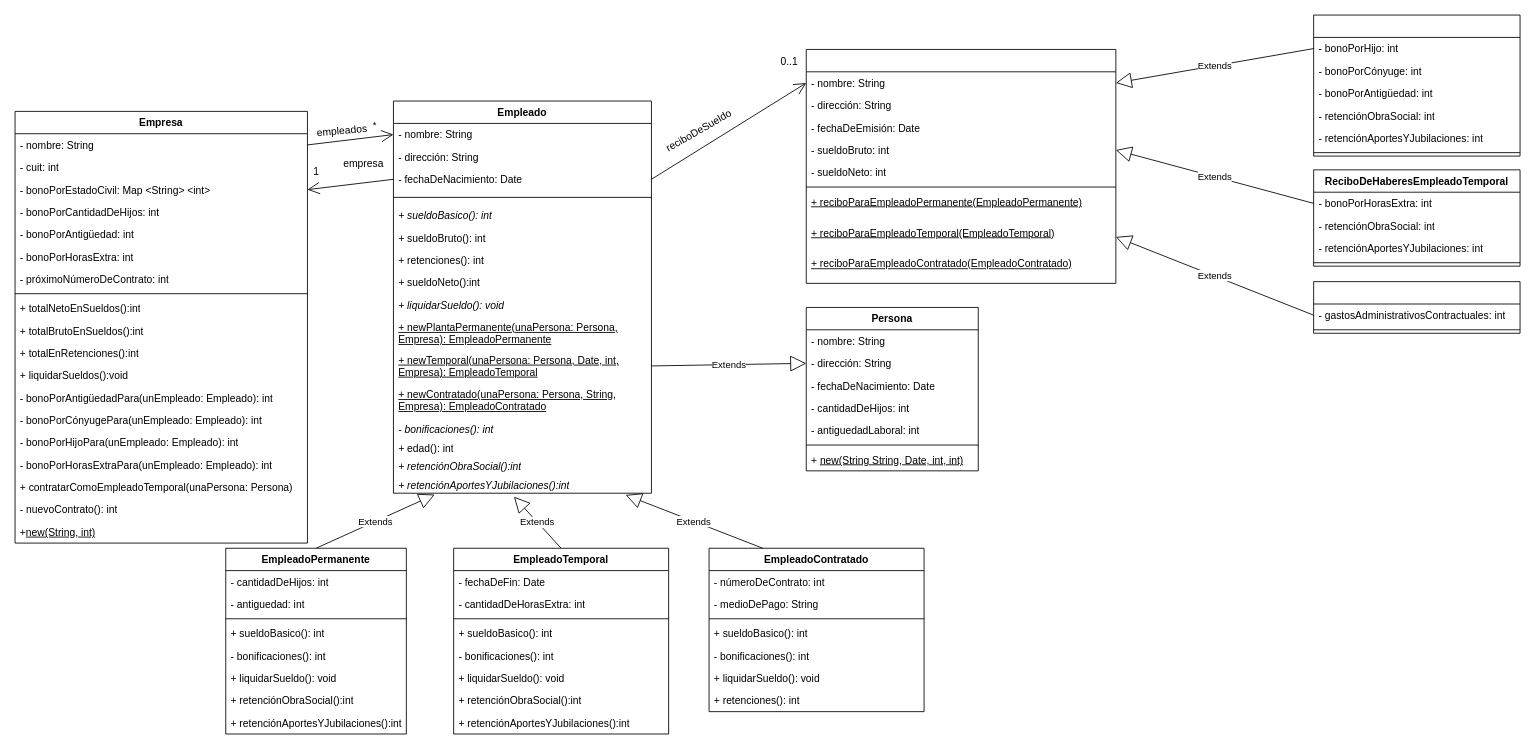
Image size: 1535x752. Some labels were removed from this diagram. The shapes that lost their labels are listed below. From the top down, each one's box as (x1, y1, x2, y2) in pixels, then its label:
(1313, 14, 1520, 156): ReciboDeHaberesEmpleadoPermanente
(805, 49, 1116, 283): ReciboDeHaberes
(1313, 281, 1520, 333): ReciboDeHaberesEmpleadoContratado
